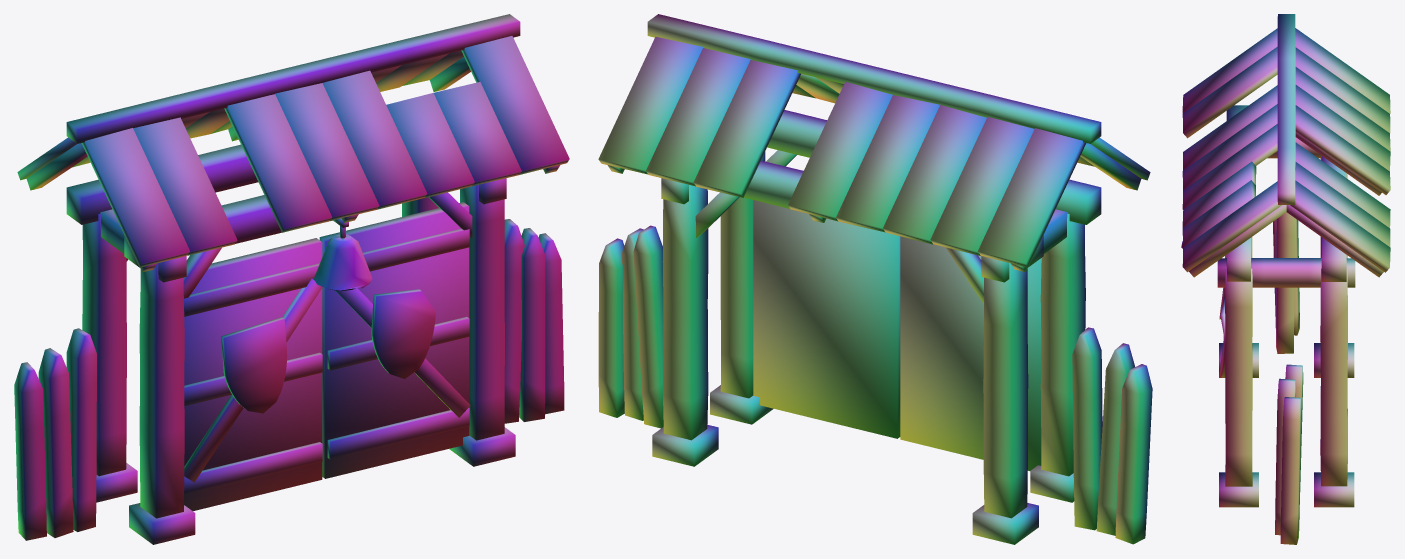
The model's file is SM_Prop_March_BoneyardGate_LOD1.fbx.
The picture shows the model from 3 angles, left to right: view 1: azimuth 30°, elevation 25°; view 2: azimuth 150°, elevation 25°; view 3: azimuth 270°, elevation 25°; orthographic projection. The views are drawn at different scales.
Visible parts, largest first — view 1: SM_Prop_March_BoneyardGate_LOD1; view 2: SM_Prop_March_BoneyardGate_LOD1; view 3: SM_Prop_March_BoneyardGate_LOD1.
Boxes of the visible parts, x1,y1,x2,y2 form: SM_Prop_March_BoneyardGate_LOD1: (14, 14, 569, 544); SM_Prop_March_BoneyardGate_LOD1: (598, 14, 1152, 544); SM_Prop_March_BoneyardGate_LOD1: (1181, 14, 1390, 544).
Bounding box in the file's own units: 4.59 × 3.24 × 1.85.
